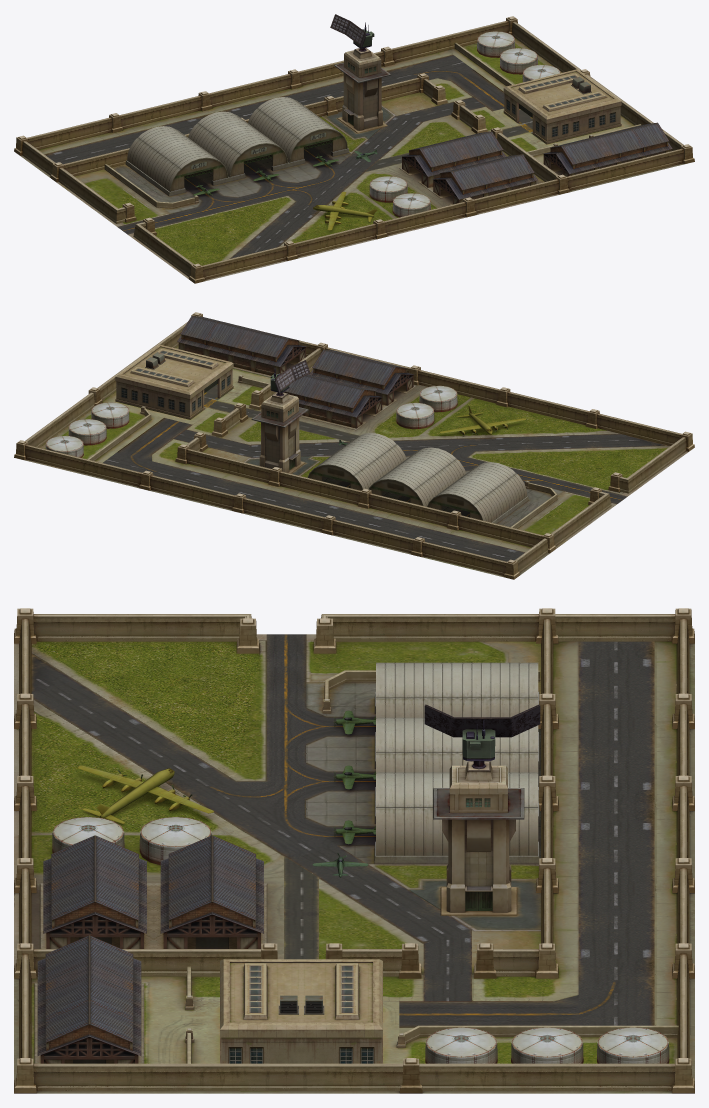
File: Dhz_AilitaryAirport_03.FBX
The picture shows the model from 3 angles, top to bottom: view 1: azimuth 30°, elevation 25°; view 2: azimuth 150°, elevation 25°; view 3: azimuth 270°, elevation 25°; orthographic projection. The views are drawn at different scales.
Parts seen in each view (by area): view 1: Dhz_AilitaryAirport_03, Dhz_airport_radar; view 2: Dhz_AilitaryAirport_03, Dhz_airport_radar; view 3: Dhz_AilitaryAirport_03, Dhz_airport_radar.
Part boxes in pixels (x1,y1,x2,y2): Dhz_AilitaryAirport_03: (14, 16, 694, 283); Dhz_airport_radar: (330, 14, 374, 49); Dhz_AilitaryAirport_03: (14, 312, 694, 579); Dhz_airport_radar: (270, 360, 310, 395); Dhz_AilitaryAirport_03: (14, 608, 694, 1093); Dhz_airport_radar: (424, 704, 540, 760).
Size of the model in its own units: 493 by 94.4 by 309.
